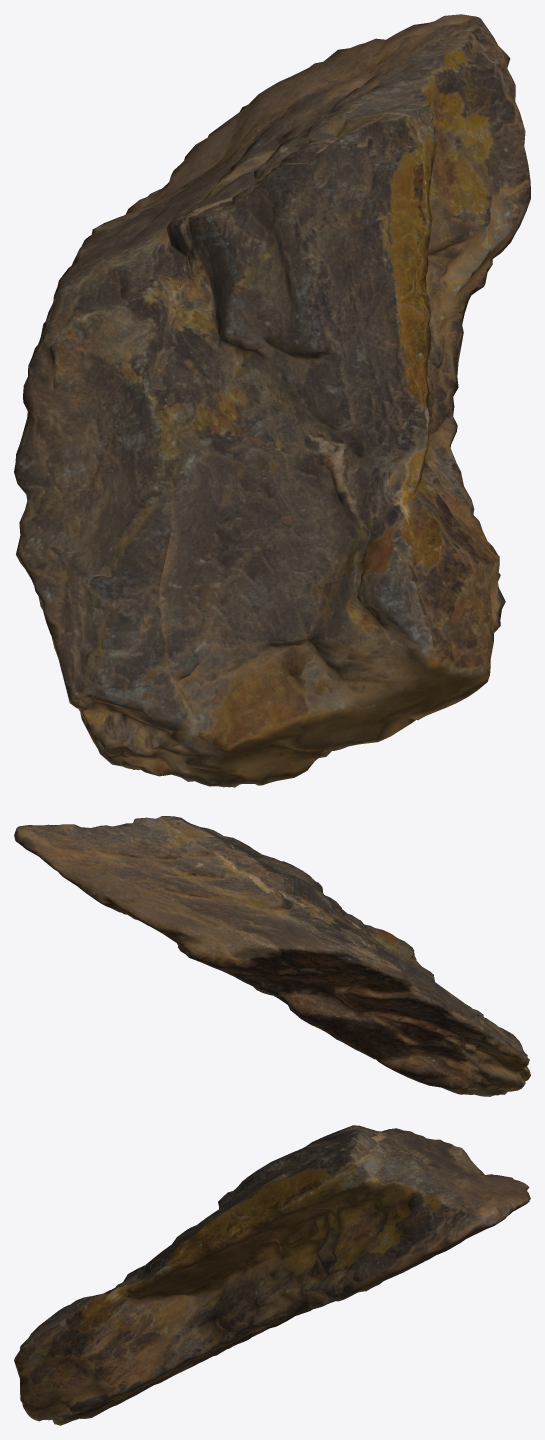
File: corealm_scree_slide.glb
3 renders of one model, top to bottom at view 1: azimuth 30°, elevation 25°; view 2: azimuth 150°, elevation 25°; view 3: azimuth 270°, elevation 25°, orthographic. The views are drawn at different scales.
Parts seen in each view (by area): view 1: original Rock 09; view 2: original Rock 09; view 3: original Rock 09.
Boxes of the visible parts, x1,y1,x2,y2 form: original Rock 09: [14, 14, 530, 787]; original Rock 09: [14, 816, 530, 1096]; original Rock 09: [14, 1125, 530, 1425].
Size of the model in its own units: 6 by 4.38 by 5.44.
1 material, 1 textured.
